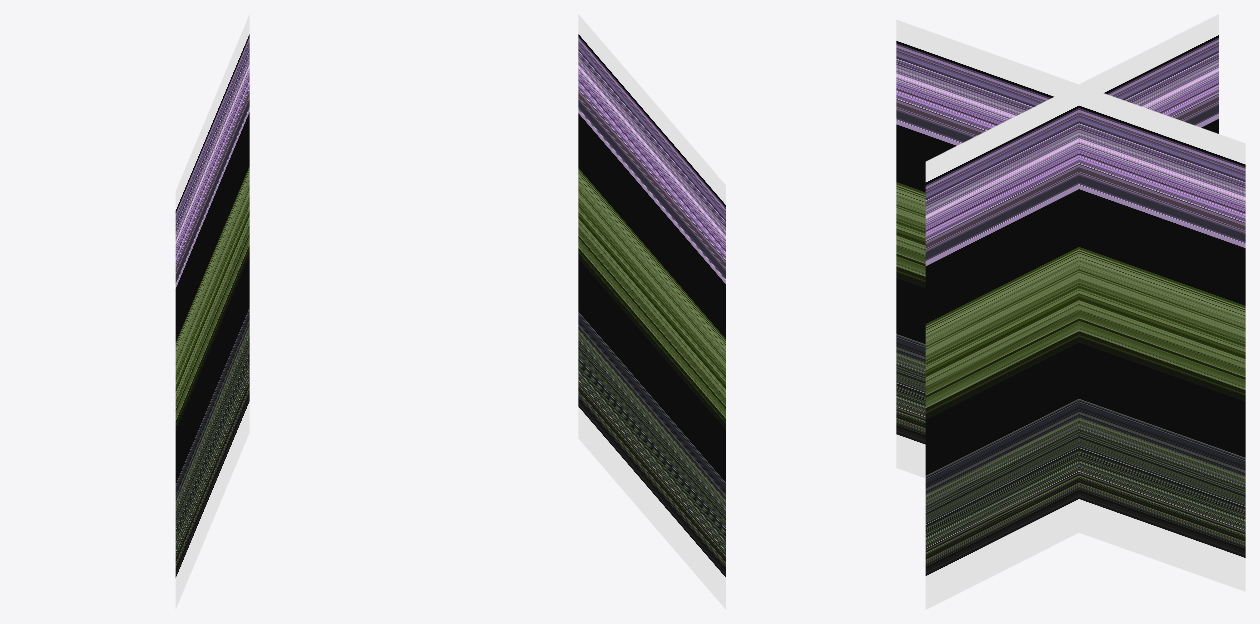
Rendered from SM_FOL_Flower_Medium_01_A.glb.
3 views of the same model, side by side, from view 1: azimuth 30°, elevation 25°; view 2: azimuth 150°, elevation 25°; view 3: azimuth 270°, elevation 25° (orthographic). The views are drawn at different scales.
Parts seen in each view (by area): view 1: SM_FOL_Flower_Medium_01_A; view 2: SM_FOL_Flower_Medium_01_A; view 3: SM_FOL_Flower_Medium_01_A.
Boxes of the visible parts, x1=… form: SM_FOL_Flower_Medium_01_A: x1=175, y1=14, x2=249, y2=609; SM_FOL_Flower_Medium_01_A: x1=578, y1=14, x2=725, y2=609; SM_FOL_Flower_Medium_01_A: x1=896, y1=14, x2=1245, y2=609.
Size of the model in its own units: 0.3349 by 0.4744 by 0.3349.
Materials: 1 (1 with a texture image).
